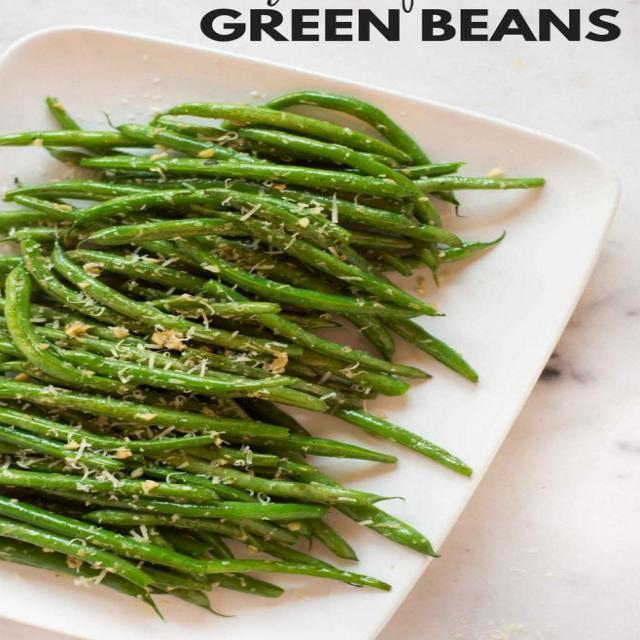Beans: (0, 45, 567, 639)
